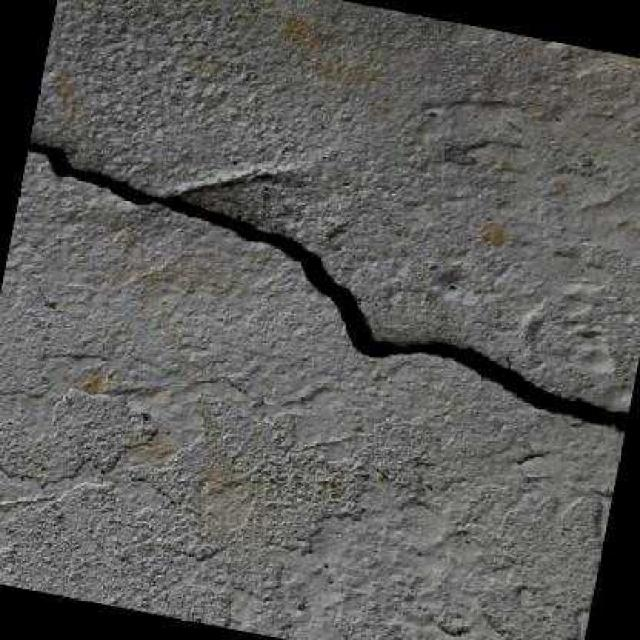D00: (27, 142, 628, 432)
